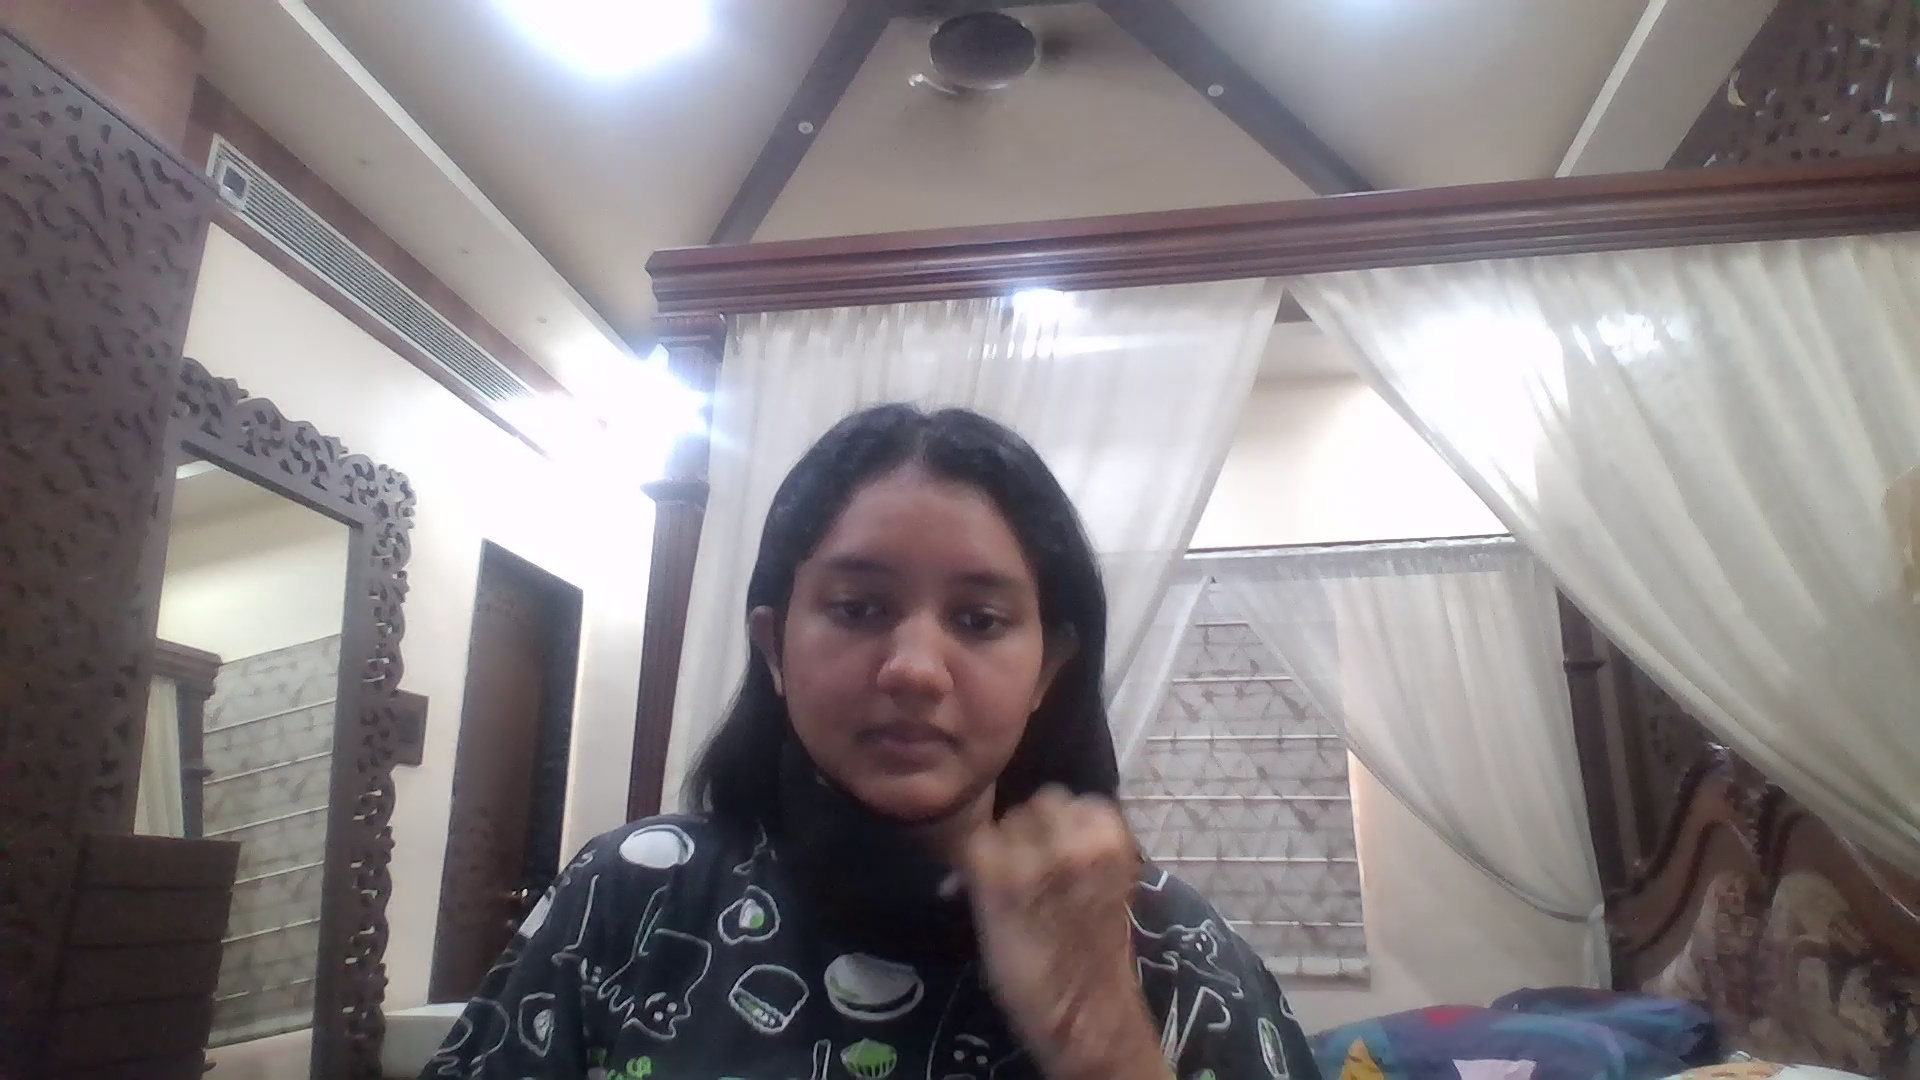No Mask: (770, 642, 1048, 825)
